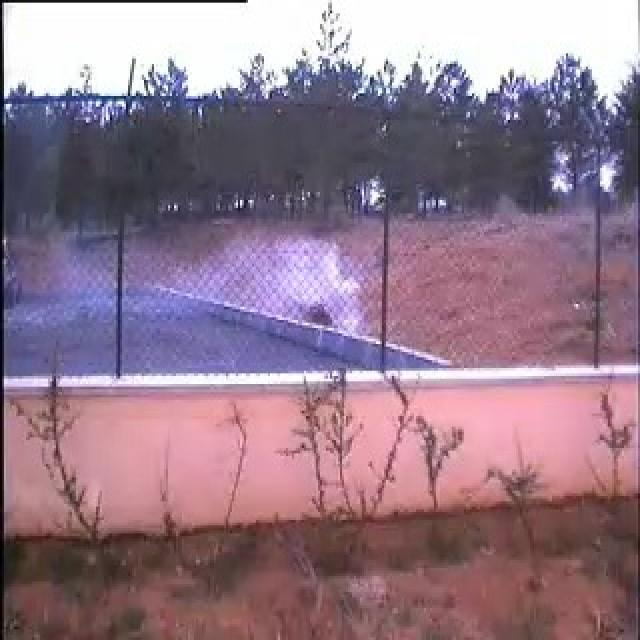smoke: (51, 228, 372, 368)
